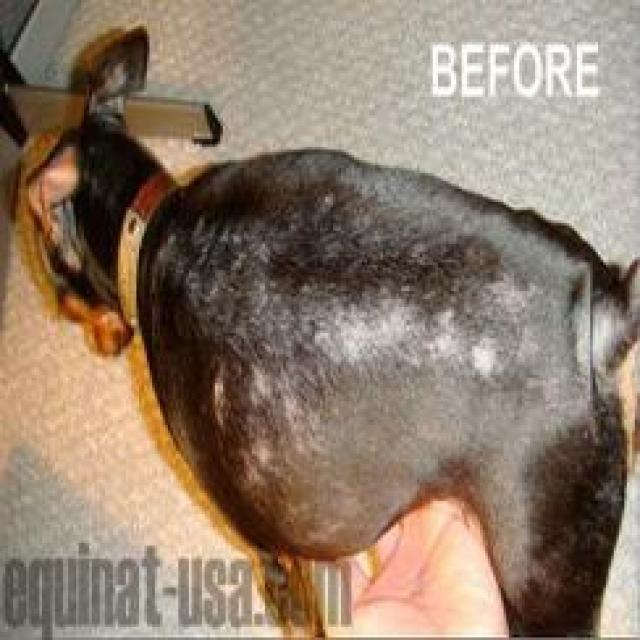fungal infection: (162, 231, 288, 335), (296, 285, 431, 371), (250, 348, 341, 457), (432, 307, 506, 391), (499, 314, 562, 390), (226, 426, 288, 489), (189, 358, 241, 430), (482, 266, 554, 318), (306, 176, 352, 214)
